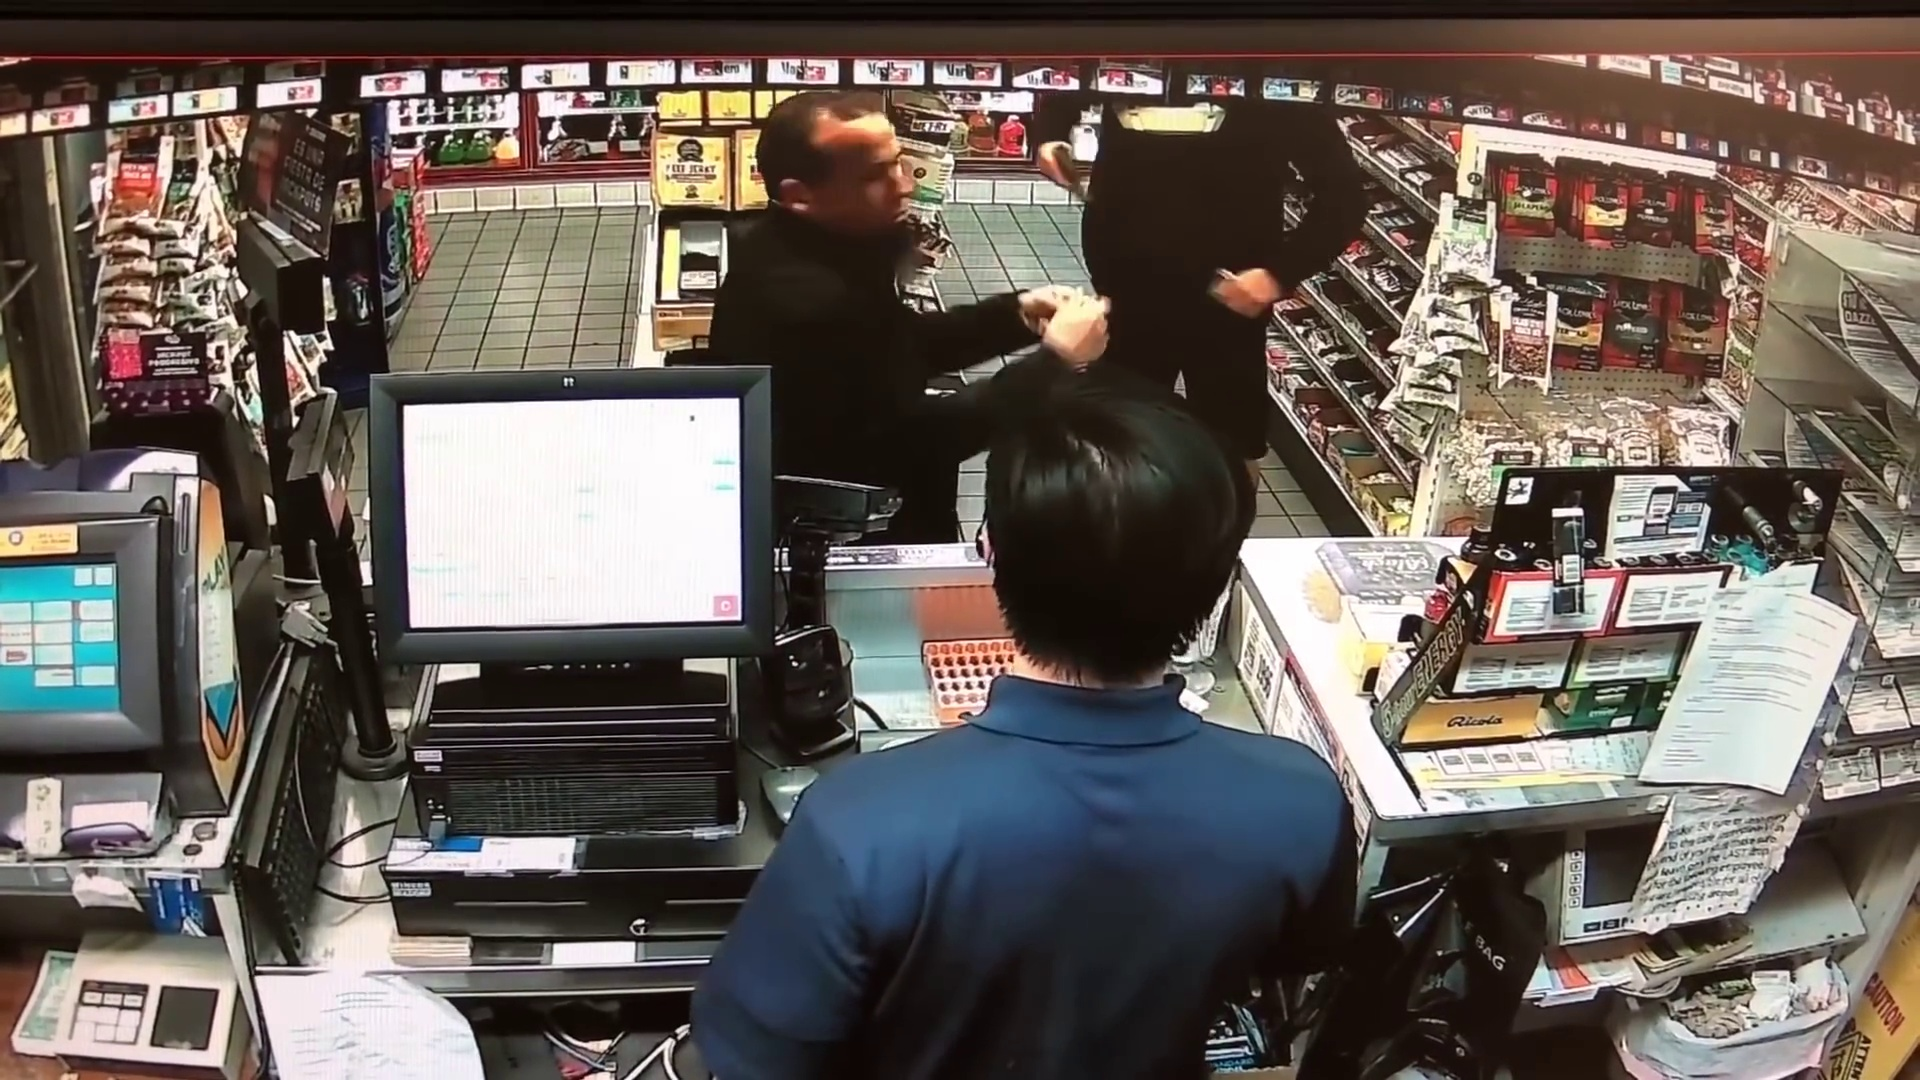face: (801, 119, 911, 245)
